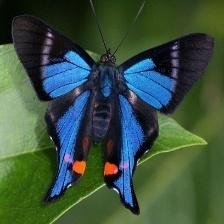butterfly: (12, 17, 215, 214)
